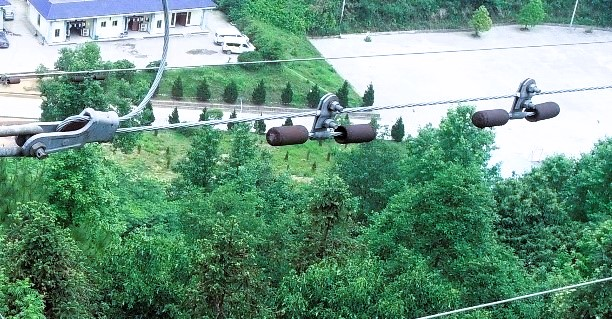Shockproof hammer: (260, 92, 386, 147), (470, 76, 564, 129)
